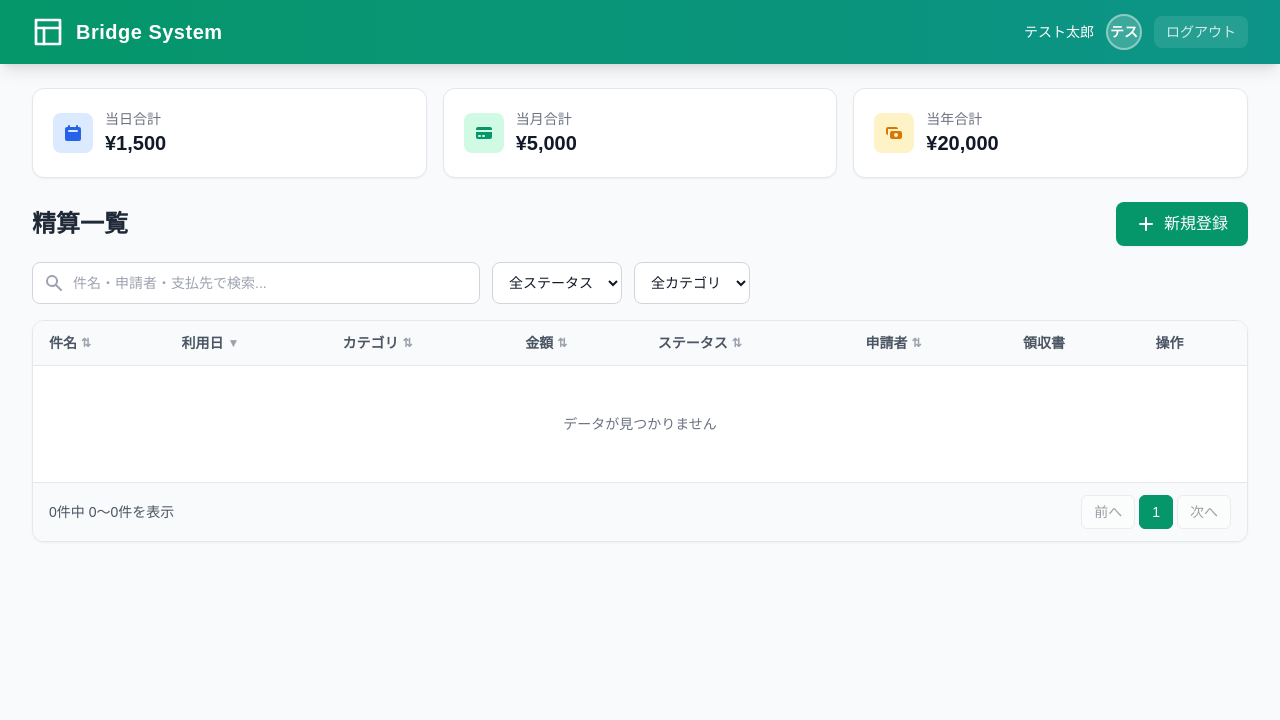
Test case: ExpenseList › 新規登録モーダル › 戻るボタンでモーダルが閉じる
The image size is (1280, 720).
Step 1. Click the button "新規登録" → (1182, 224), box x1=1116 y1=202 x2=1248 y2=246
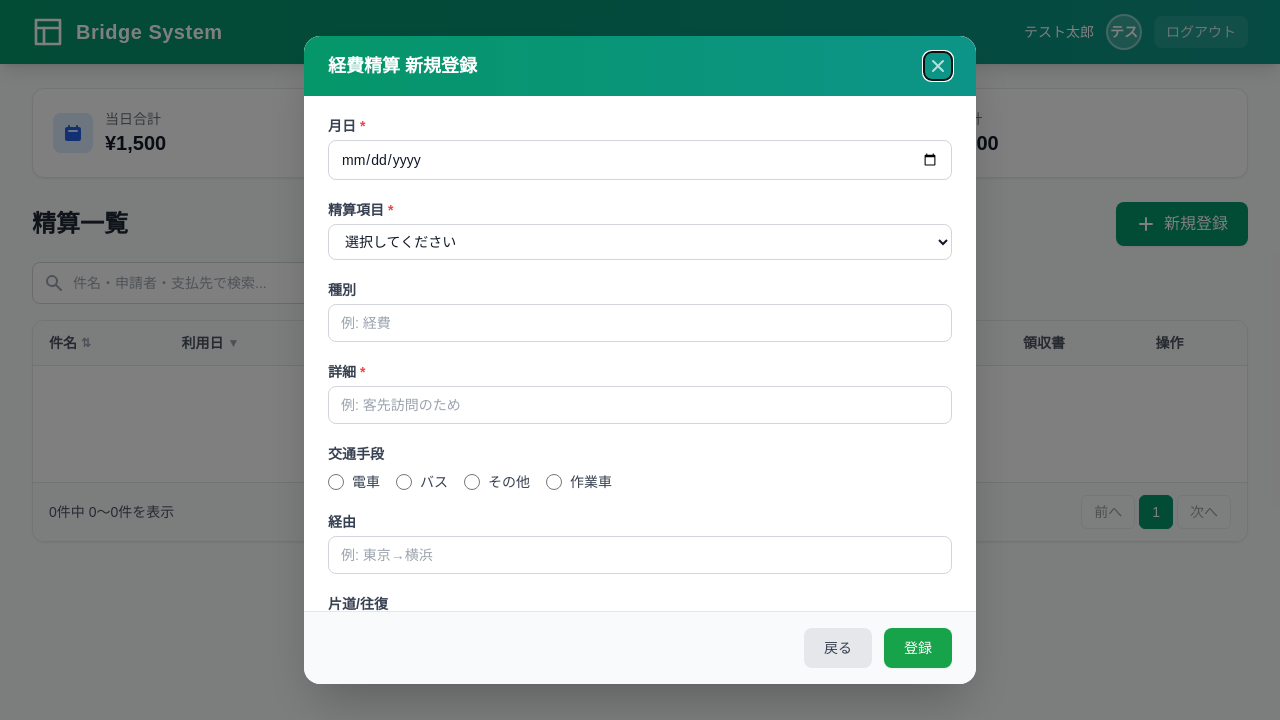
Expected: the heading "経費精算 新規登録" is shown, x1=328 y1=52 x2=477 y2=80
Step 2. Click the button "戻る" → (838, 648), box x1=804 y1=628 x2=872 y2=668
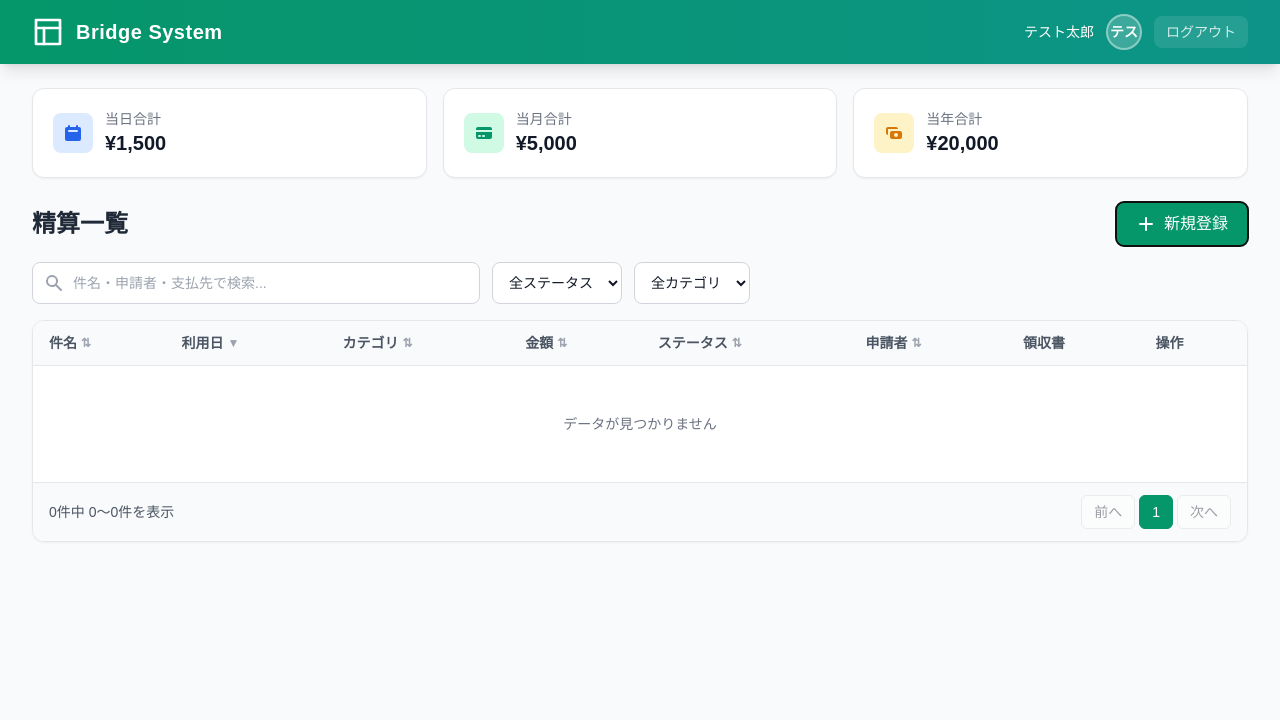
Expected: the heading "経費精算 新規登録" is gone
